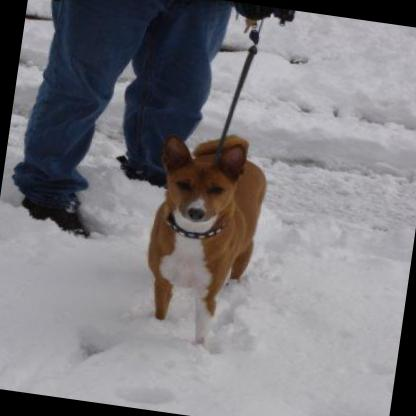basenji: (128, 122, 272, 354)
